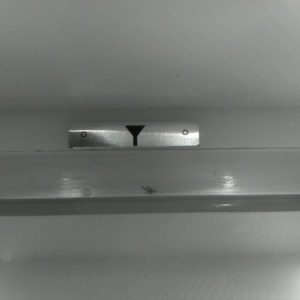finger: (124, 125, 144, 144)
